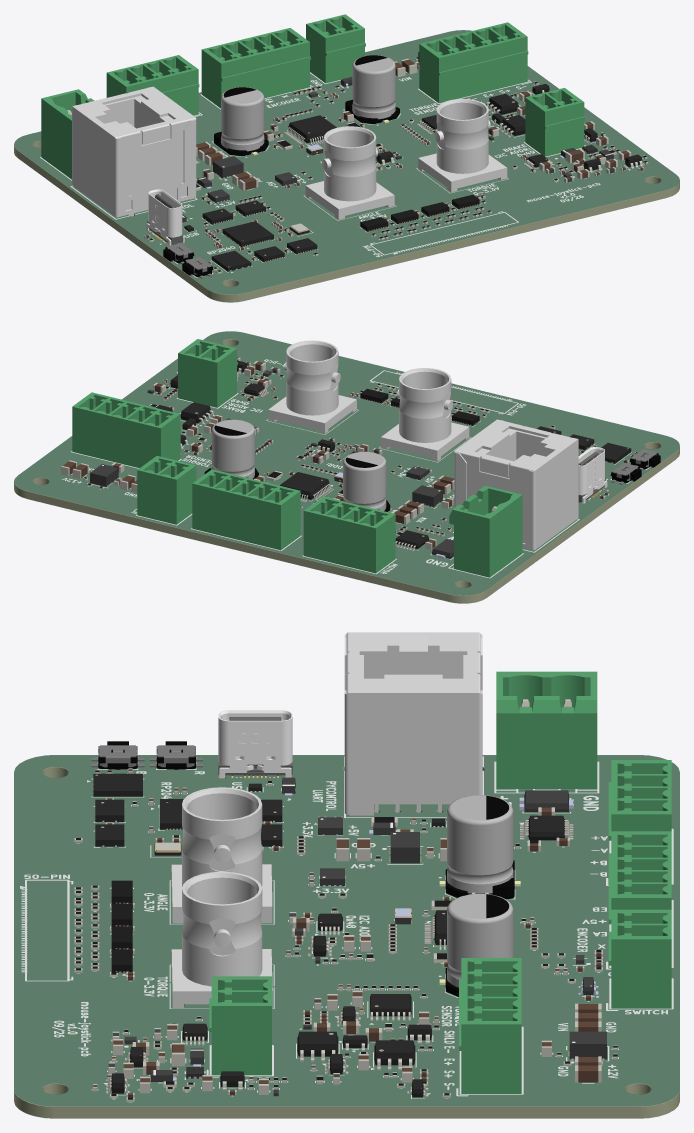
File: mouse-joystick-pcb.glb
3 renders of one model, top to bottom at view 1: azimuth 30°, elevation 25°; view 2: azimuth 150°, elevation 25°; view 3: azimuth 270°, elevation 25°, orthographic. The views are drawn at different scales.
Visible parts, largest first — view 1: =>[0:1:1:125], =>[0:1:1:127], =>0:1:1:105, =>[0:1:1:19] (×2), =>[0:1:1:74] (×2), =>[0:1:1:84] (×2), =>[0:1:1:123] (×2), =>[0:1:1:124], =>[0:1:1:90], =>[0:1:1:47], =>0:1:1:114, =>[0:1:1:36] (+5 smaller); view 2: =>[0:1:1:125], =>[0:1:1:127], =>[0:1:1:19] (×2), =>[0:1:1:74] (×2), =>0:1:1:105, =>[0:1:1:84] (×2), =>[0:1:1:90], =>[0:1:1:47], =>[0:1:1:123] (×2), =>[0:1:1:124], =>0:1:1:114, =>[0:1:1:88] (×2) (+4 smaller); view 3: =>[0:1:1:125], =>[0:1:1:127], =>0:1:1:105, =>[0:1:1:74] (×2), =>[0:1:1:19] (×2), =>[0:1:1:84] (×2), =>[0:1:1:47], =>[0:1:1:123] (×2), =>[0:1:1:124], =>[0:1:1:90], =>0:1:1:114, =>[0:1:1:98] (×2) (+7 smaller).
Part boxes in pixels (x1=…): =>[0:1:1:125]: x1=14, y1=30, x2=679, y2=294; =>[0:1:1:127]: x1=14, y1=31, x2=679, y2=302; =>0:1:1:105: x1=72, y1=86, x2=196, y2=217; =>[0:1:1:19] (×2): x1=201, y1=22, x2=528, y2=108; =>[0:1:1:74] (×2): x1=305, y1=98, x2=507, y2=219; =>[0:1:1:84] (×2): x1=306, y1=14, x2=584, y2=156; =>[0:1:1:123] (×2): x1=214, y1=55, x2=399, y2=156; =>[0:1:1:124]: x1=40, y1=61, x2=644, y2=277; =>[0:1:1:90]: x1=106, y1=55, x2=199, y2=115; =>[0:1:1:47]: x1=41, y1=89, x2=94, y2=179; =>0:1:1:114: x1=146, y1=189, x2=184, y2=245; =>[0:1:1:36]: x1=284, y1=115, x2=336, y2=145; =>[0:1:1:125]: x1=14, y1=331, x2=679, y2=595; =>[0:1:1:127]: x1=14, y1=332, x2=679, y2=603; =>[0:1:1:19] (×2): x1=72, y1=392, x2=301, y2=550; =>[0:1:1:74] (×2): x1=268, y1=340, x2=469, y2=461; =>0:1:1:105: x1=454, y1=419, x2=578, y2=550; =>[0:1:1:84] (×2): x1=137, y1=339, x2=237, y2=524; =>[0:1:1:90]: x1=303, y1=496, x2=396, y2=573; =>[0:1:1:47]: x1=449, y1=485, x2=522, y2=577; =>[0:1:1:123] (×2): x1=204, y1=419, x2=390, y2=511; =>[0:1:1:124]: x1=62, y1=359, x2=650, y2=578; =>0:1:1:114: x1=578, y1=447, x2=607, y2=503; =>[0:1:1:88] (×2): x1=90, y1=464, x2=442, y2=507; =>[0:1:1:125]: x1=14, y1=755, x2=679, y2=1106; =>[0:1:1:127]: x1=14, y1=756, x2=679, y2=1118; =>0:1:1:105: x1=344, y1=632, x2=482, y2=815; =>[0:1:1:74] (×2): x1=171, y1=787, x2=272, y2=1007; =>[0:1:1:19] (×2): x1=459, y1=831, x2=671, y2=1093; =>[0:1:1:84] (×2): x1=209, y1=909, x2=671, y2=1075; =>[0:1:1:47]: x1=496, y1=671, x2=597, y2=788; =>[0:1:1:123] (×2): x1=439, y1=795, x2=520, y2=996; =>[0:1:1:124]: x1=20, y1=756, x2=673, y2=1102; =>[0:1:1:90]: x1=608, y1=760, x2=671, y2=840; =>0:1:1:114: x1=218, y1=710, x2=292, y2=778; =>[0:1:1:98] (×2): x1=297, y1=1031, x2=415, y2=1070.
Bounding box in the file's own units: 0.1003 × 0.0205 × 0.08.
